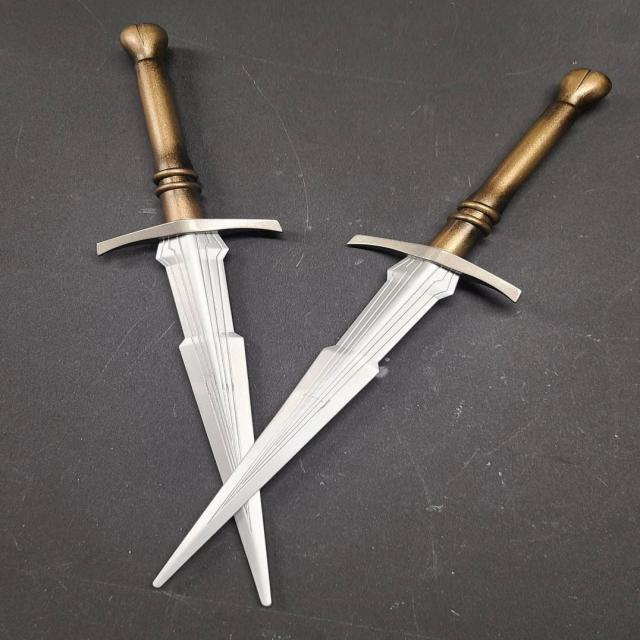short sword: (81, 16, 618, 614)
